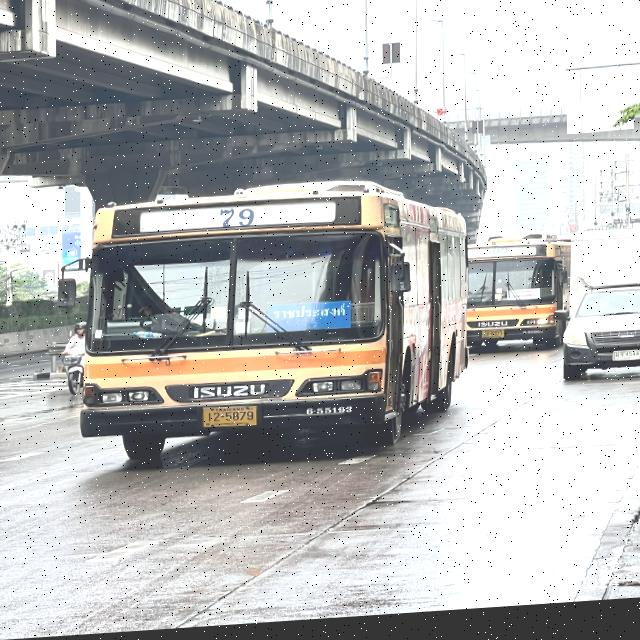BMTA-bus: (78, 180, 469, 475), (467, 241, 572, 361)
Bus-Line-Number: (206, 205, 266, 237), (481, 253, 509, 264)
Destination-Sign-Extra-Bus: (510, 294, 543, 310)
Destination-Sign-Normal: (262, 303, 353, 336)
